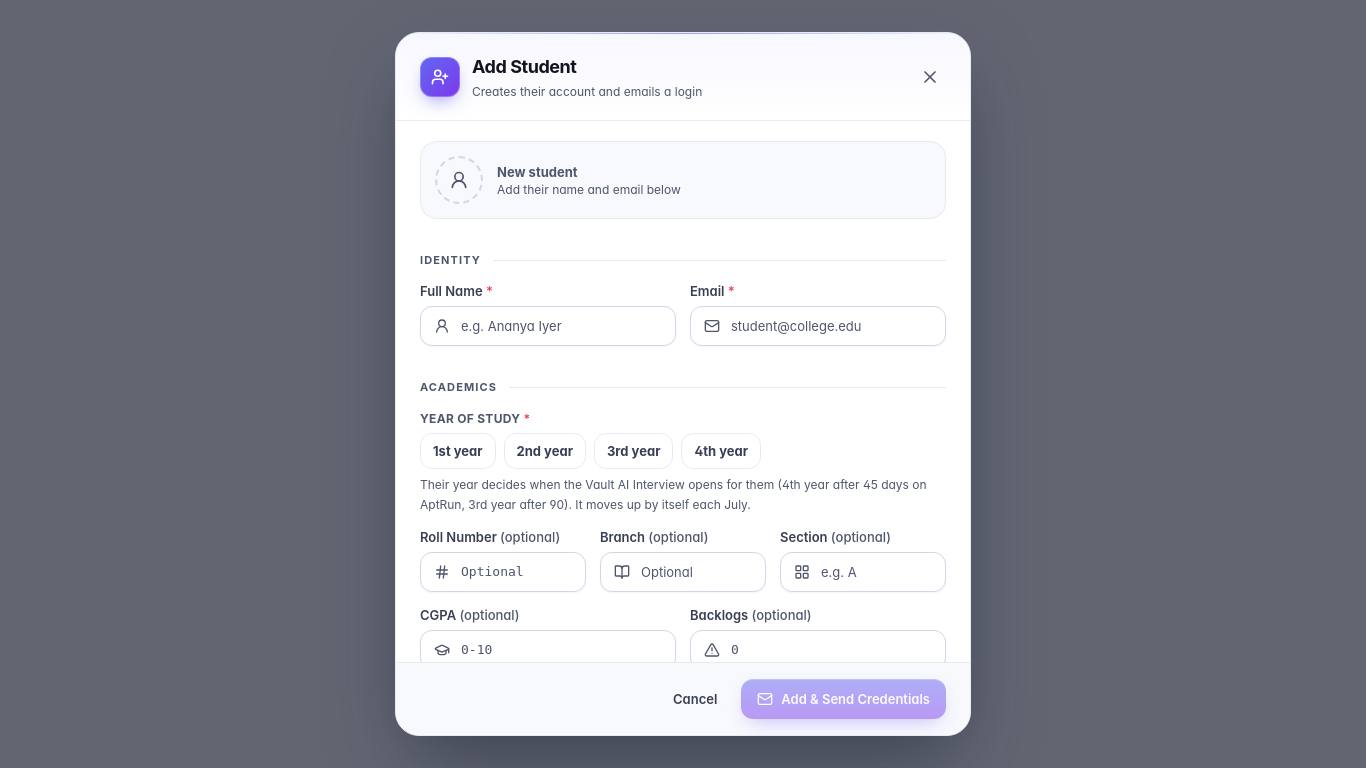
Add Student asks for the year › cannot be submitted until a year is chosen
Type "Ananya Iyer" into the field labelled "Full Name *".
click(548, 326); type("Ananya Iyer")  # box [420, 306, 676, 346]
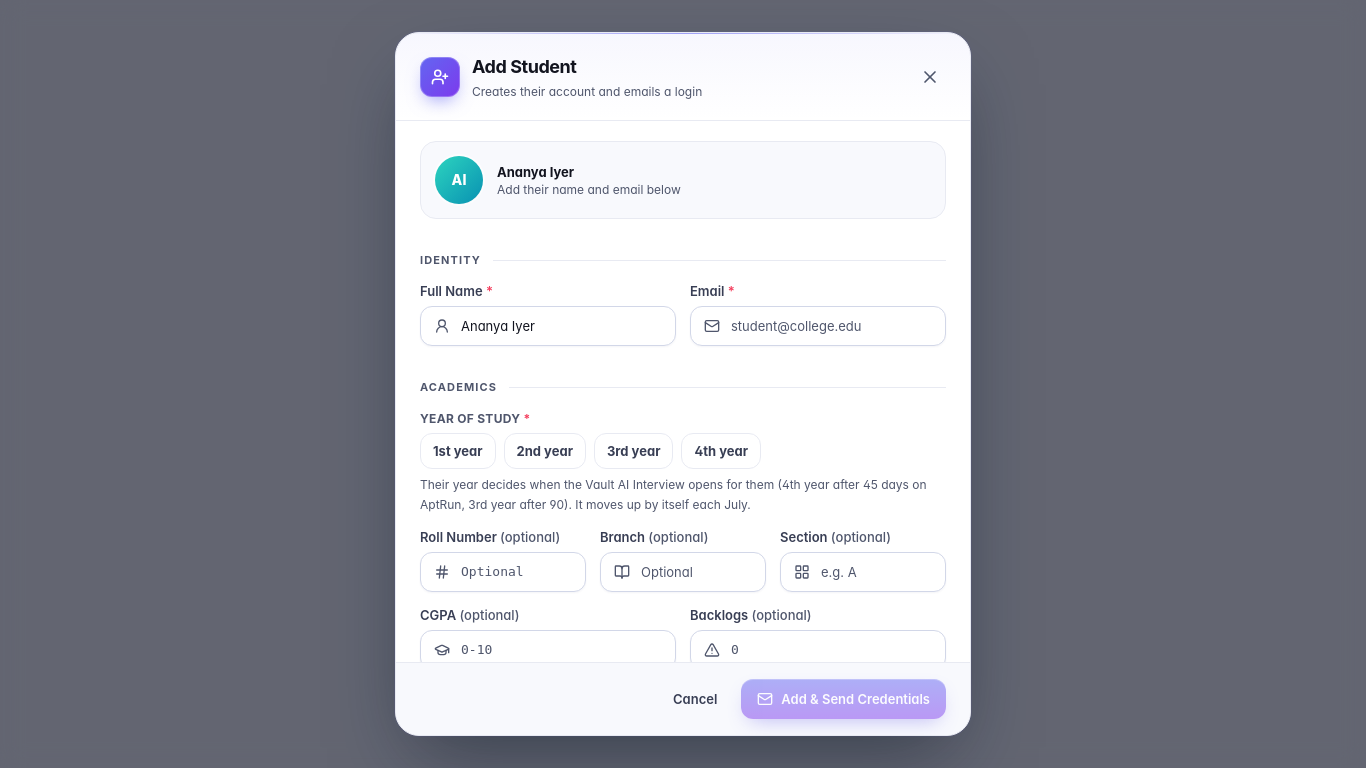
Type "ananya@college.edu" into the field labelled "Email *".
click(818, 326); type("ananya@college.edu")  # box [690, 306, 946, 346]
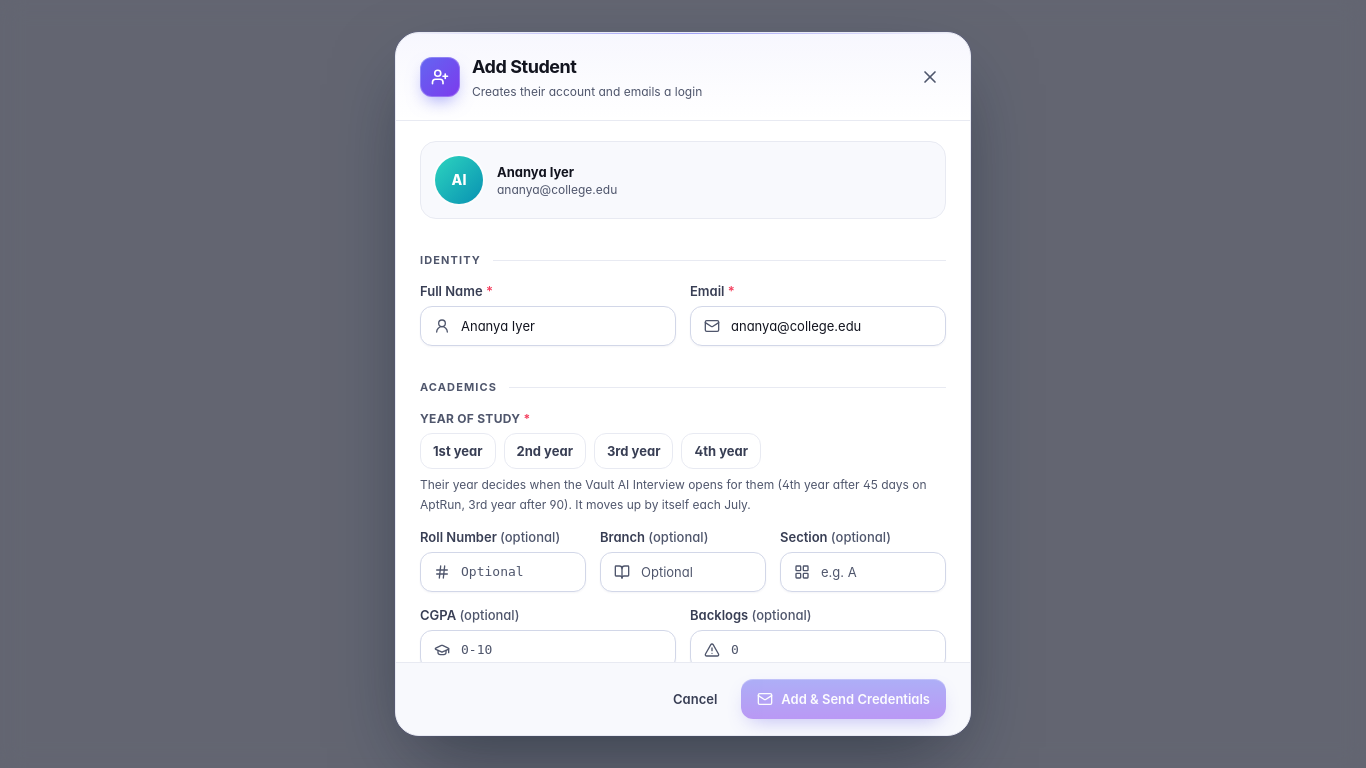
Expected: the button "Add & Send Credentials" is disabled, [741, 679, 946, 719]
Click the radio button labelled "3rd year".
click(634, 451)  # box [594, 433, 674, 469]
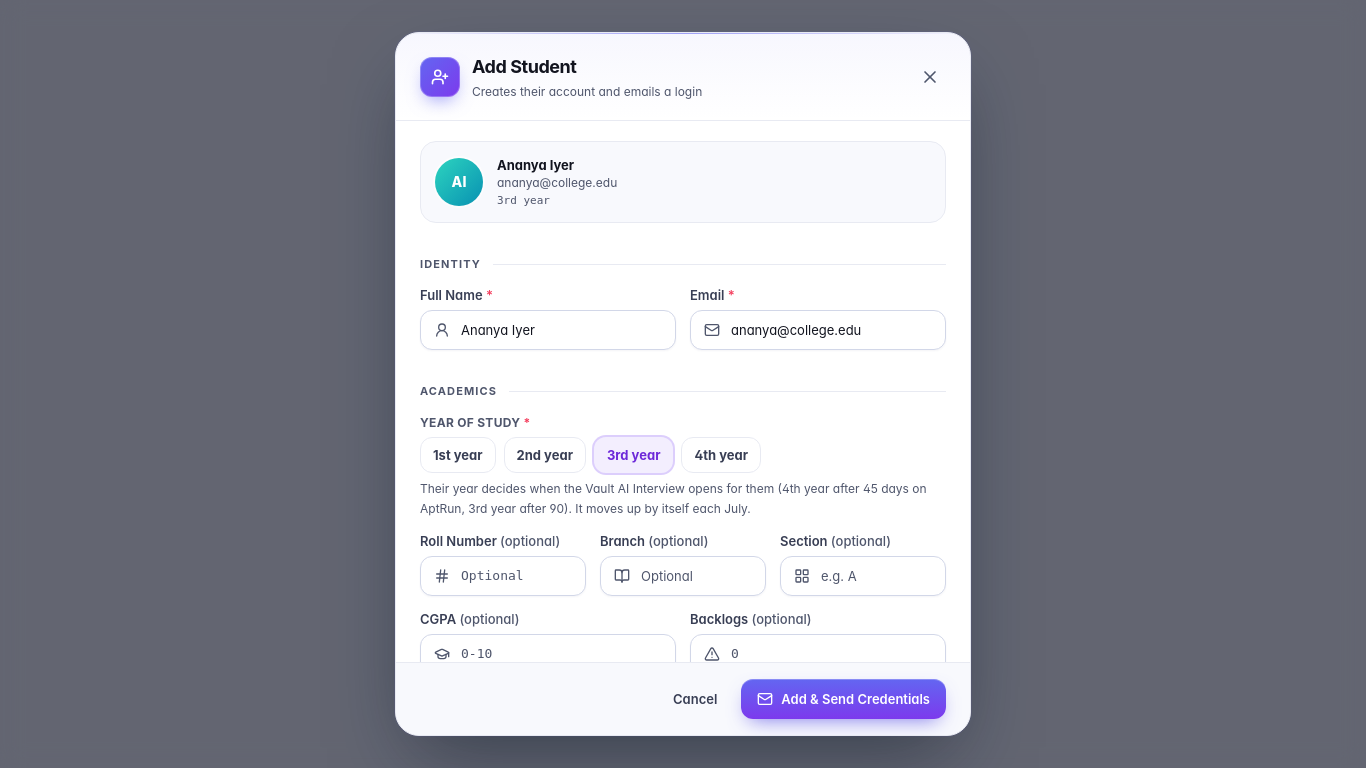
Expected: the button "Add & Send Credentials" is enabled, [741, 679, 946, 719]
